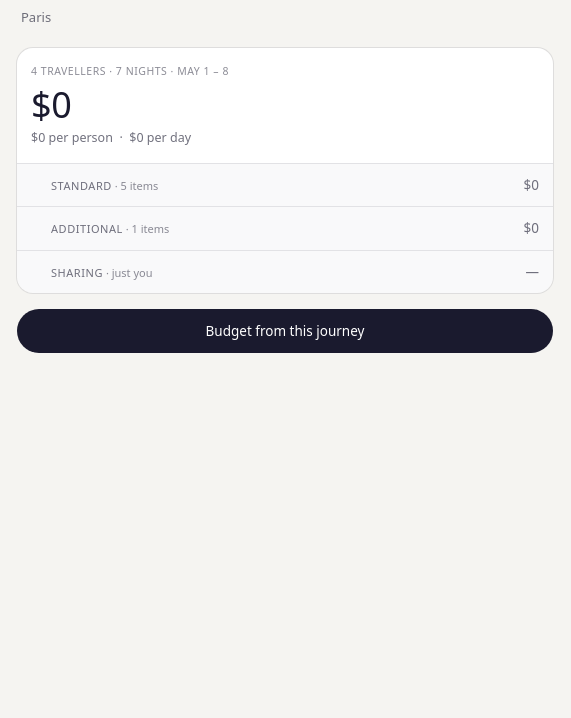
Budget from this journey, outside Canada › an American gets US-dollar prices and the basis says where from
Click the button "Budget from this journey" at (285, 331), box [17, 309, 553, 353]
Wait 800 ms
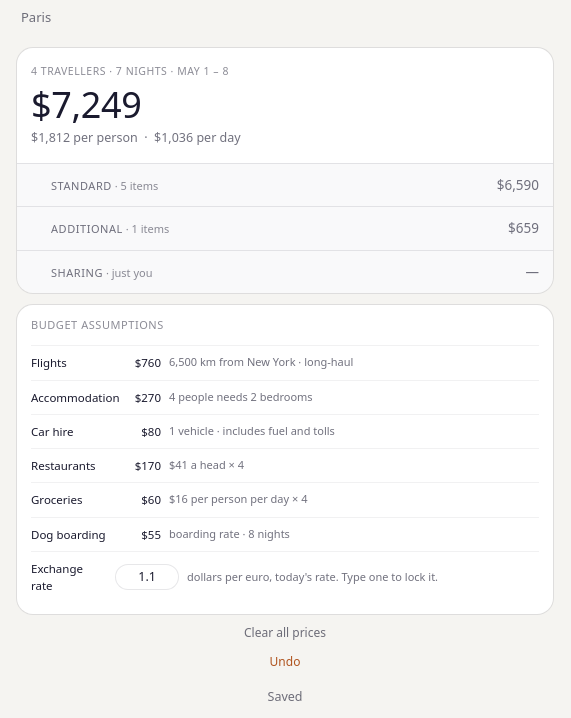
Expected: the text "6,500 km from New York · long-haul" is shown, [169, 354, 353, 369]
Expected: the text "$16 per person per day × 4" is shown, [169, 491, 307, 506]
